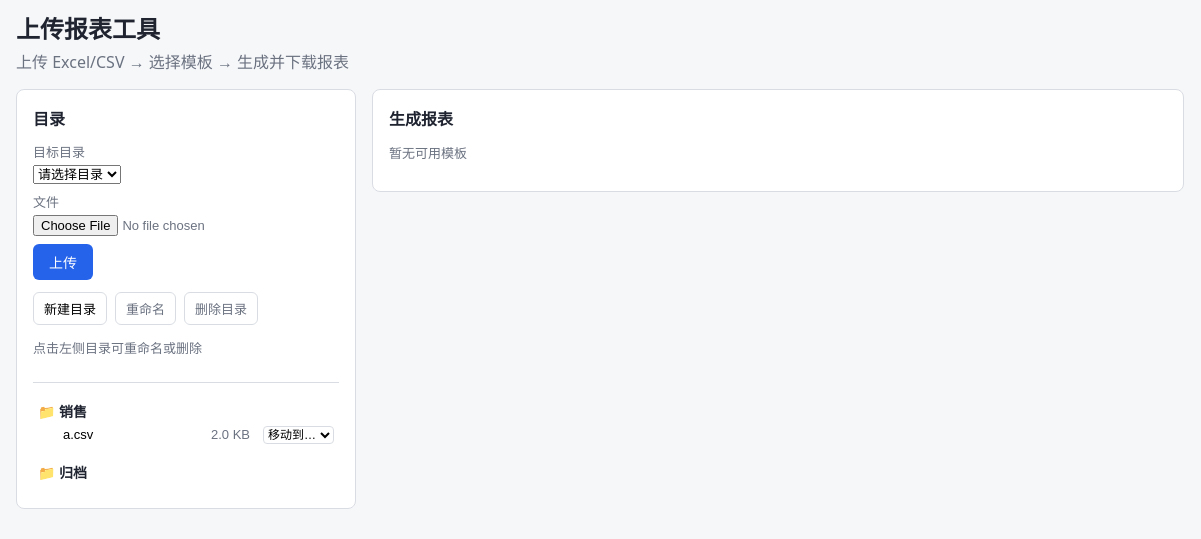
move conflict error surfaces in global banner
The image size is (1201, 539).
Expected: the text "a.csv" is shown, [63,427,93,442]
Select "归档" in the dropdown named "移动 a.csv 到" at coordinates (298, 434), box [263,426,334,444]
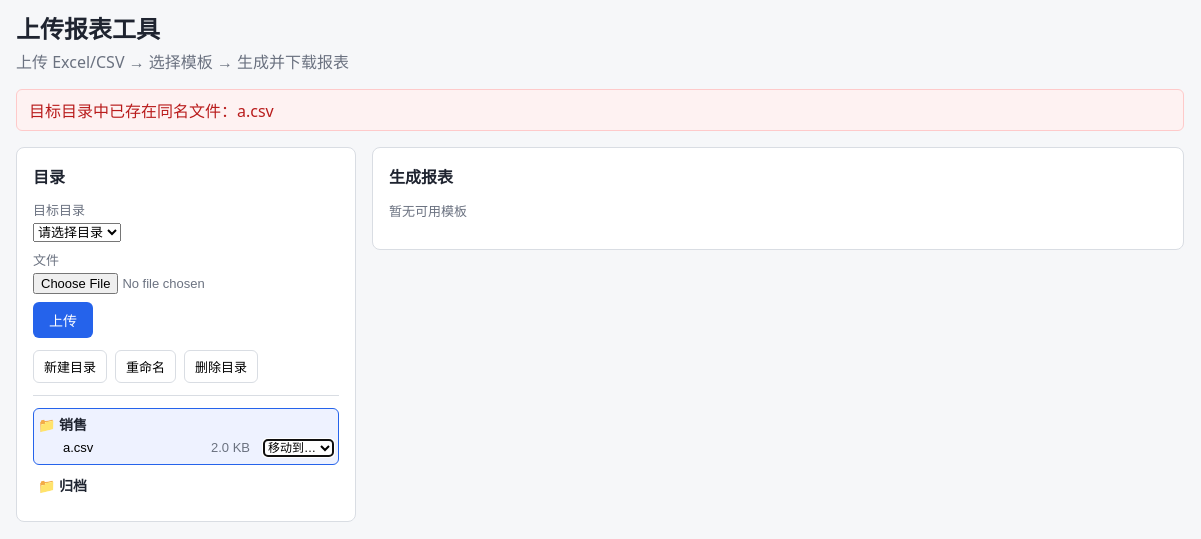
Expected: the message reads "目标目录中已存在同名文件：a.csv", [29,100,274,122]
